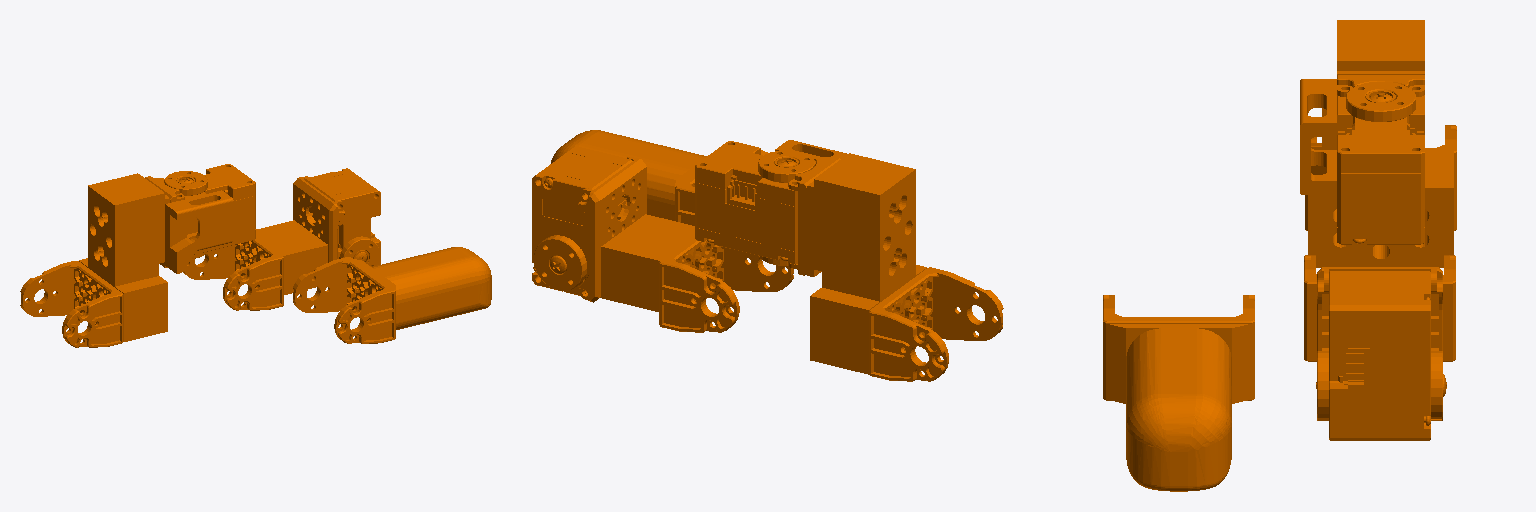
robot.urdf — onshape:
<robot name="onshape">
  <link name="palm_lower">
    <inertial>
      <origin xyz="0.0 0.0 0.0" rpy="0.0 -0.0 0.0"/>
      <mass value="0.237"/>
      <inertia ixx="0.000354094" ixy="-1.193e-06" ixz="-2.445e-06" iyy="0.000260915" iyz="-2.905e-06" izz="0.000529257"/>
    </inertial>
    <visual>
      <geometry>
        <mesh filename="../assets/leap/leap_hand/palm_lower.stl"/>
      </geometry>
      <origin xyz="-0.020095249652862544 0.025757756134899473 -0.034722403578460216" rpy="0.0 -0.0 0.0"/>
      <material name="palm_lower_material">
        <color rgba="0.6039215686274509 0.14901960784313725 0.14901960784313725 1.0"/>
      </material>
    </visual>
    <collision>
      <geometry>
        <mesh filename="../assets/leap/leap_hand/palm_lower.stl"/>
      </geometry>
      <origin xyz="-0.020095249652862544 0.025757756134899473 -0.034722403578460216" rpy="0.0 -0.0 0.0"/>
    </collision>
  </link>
  <link name="mcp_joint_long">
    <inertial>
      <origin xyz="0.0 0.0 0.0" rpy="0.0 -0.0 0.0"/>
      <mass value="0.044"/>
      <inertia ixx="1.1499e-05" ixy="3.049e-06" ixz="1.21e-07" iyy="7.796e-06" iyz="1.12e-07" izz="1.4759e-05"/>
    </inertial>
    <visual>
      <geometry>
        <mesh filename="custom_models/mcp_joint_long.stl"/>
      </geometry>
      <origin xyz="0.008406902261174496 0.0077662438597169954 0.014657354985032912" rpy="1.6375789613221e-15 -1.021047330249102e-30 1.7177968783327987e-31"/>
      <material name="mcp_joint_material">
        <color rgba="0.878 0.467 0.0 1.0"/>
      </material>
    </visual>
    <collision>
      <geometry>
        <mesh filename="custom_models/mcp_joint_long.stl"/>
      </geometry>
      <origin xyz="0.008406902261174496 0.0077662438597169954 0.014657354985032912" rpy="1.6375789613221e-15 -1.021047330249102e-30 1.7177968783327987e-31"/>
    </collision>
  </link>
  <link name="pip">
    <inertial>
      <origin xyz="0.0 0.0 0.0" rpy="0.0 -0.0 0.0"/>
      <mass value="0.032"/>
      <inertia ixx="4.798e-06" ixy="1.2e-08" ixz="4e-09" iyy="2.862e-06" iyz="1.1e-08" izz="4.234e-06"/>
    </inertial>
    <visual>
      <geometry>
        <mesh filename="../assets/leap/leap_hand/pip.stl"/>
      </geometry>
      <origin xyz="0.009643363092271328 0.0002999999999999895 0.0007840340104173765" rpy="-1.5707963267948966 -1.5707963267948963 0.0"/>
      <material name="pip_material">
        <color rgba="0.7490196078431373 0.7490196078431373 0.7490196078431373 1.0"/>
      </material>
    </visual>
    <collision>
      <geometry>
        <mesh filename="../assets/leap/leap_hand/pip.stl"/>
      </geometry>
      <origin xyz="0.009643363092271328 0.0002999999999999895 0.0007840340104173765" rpy="-1.5707963267948966 -1.5707963267948963 0.0"/>
    </collision>
  </link>
  <link name="dip_long">
    <inertial>
      <origin xyz="0.0 0.0 0.0" rpy="0.0 -0.0 0.0"/>
      <mass value="0.037"/>
      <inertia ixx="5.542e-06" ixy="-6.07e-07" ixz="-1.7e-08" iyy="5.727e-06" iyz="-2.3e-08" izz="6.682e-06"/>
    </inertial>
    <visual>
      <geometry>
        <mesh filename="custom_models/dip_long.stl"/>
      </geometry>
      <origin xyz="0.021133352895225003 -0.00843211914670488 0.00978508816209524" rpy="-3.141592653589793 4.507511124216441e-32 4.439548105392361e-32"/>
      <material name="dip_material">
        <color rgba="0.878 0.467 0.0 1.0"/>
      </material>
    </visual>
    <collision>
      <geometry>
        <mesh filename="custom_models/dip_long.stl"/>
      </geometry>
      <origin xyz="0.021133352895225003 -0.00843211914670488 0.00978508816209524" rpy="-3.141592653589793 4.507511124216441e-32 4.439548105392361e-32"/>
    </collision>
  </link>
  <link name="fingertip">
    <inertial>
      <origin xyz="0.0 0.0 0.0" rpy="0.0 -0.0 0.0"/>
      <mass value="0.016"/>
      <inertia ixx="3.368e-06" ixy="1.15e-07" ixz="0.0" iyy="1.556e-06" iyz="0.0" izz="2.863e-06"/>
    </inertial>
    <visual>
      <geometry>
        <mesh filename="../assets/leap/leap_hand/fingertip.stl"/>
      </geometry>
      <origin xyz="0.013286424108533503 -0.006114238386541987 0.014499999999999498" rpy="3.141592653589793 1.1993117970061735e-33 4.439548105392361e-32"/>
      <material name="fingertip_material">
        <color rgba="0.8666666666666667 0.8666666666666667 0.050980392156862744 1.0"/>
      </material>
    </visual>
    <collision>
      <geometry>
        <mesh filename="../assets/leap/leap_hand/fingertip.stl"/>
      </geometry>
      <origin xyz="0.013286424108533503 -0.006114238386541987 0.014499999999999498" rpy="3.141592653589793 1.1993117970061735e-33 4.439548105392361e-32"/>
    </collision>
  </link>
  <link name="pip_4">
    <inertial>
      <origin xyz="0.0 0.0 0.0" rpy="0.0 -0.0 0.0"/>
      <mass value="0.032"/>
      <inertia ixx="4.798e-06" ixy="1.2e-08" ixz="4e-09" iyy="2.862e-06" iyz="1.1e-08" izz="4.234e-06"/>
    </inertial>
    <visual>
      <geometry>
        <mesh filename="../assets/leap/leap_hand/pip.stl"/>
      </geometry>
      <origin xyz="-0.005356636907728671 0.0002999999999999999 0.0007840340104173782" rpy="-1.5707963267948966 -1.5707963267948963 0.0"/>
      <material name="pip_material">
        <color rgba="0.7490196078431373 0.7490196078431373 0.7490196078431373 1.0"/>
      </material>
    </visual>
    <collision>
      <geometry>
        <mesh filename="../assets/leap/leap_hand/pip.stl"/>
      </geometry>
      <origin xyz="-0.005356636907728671 0.0002999999999999999 0.0007840340104173782" rpy="-1.5707963267948966 -1.5707963267948963 0.0"/>
    </collision>
  </link>
  <link name="thumb_pip">
    <inertial>
      <origin xyz="0.0 0.0 0.0" rpy="0.0 -0.0 0.0"/>
      <mass value="0.003"/>
      <inertia ixx="5.93e-07" ixy="0.0" ixz="0.0" iyy="5.49e-07" iyz="0.0" izz="2.24e-07"/>
    </inertial>
    <visual>
      <geometry>
        <mesh filename="../assets/leap/leap_hand/thumb_pip.stl"/>
      </geometry>
      <origin xyz="0.011961920770611187 -5.30825383648903e-16 -0.0158526489566642" rpy="1.5707963267948966 1.6050198443300153e-46 -3.9204996250525193e-59"/>
      <material name="thumb_pip_material">
        <color rgba="0.8666666666666667 0.8666666666666667 0.050980392156862744 1.0"/>
      </material>
    </visual>
    <collision>
      <geometry>
        <mesh filename="../assets/leap/leap_hand/thumb_pip.stl"/>
      </geometry>
      <origin xyz="0.011961920770611187 -5.30825383648903e-16 -0.0158526489566642" rpy="1.5707963267948966 1.6050198443300153e-46 -3.9204996250525193e-59"/>
    </collision>
  </link>
  <link name="thumb_dip">
    <inertial>
      <origin xyz="0.0 0.0 0.0" rpy="0.0 -0.0 0.0"/>
      <mass value="0.038"/>
      <inertia ixx="8.474e-06" ixy="2.41e-07" ixz="2.6e-08" iyy="3.841e-06" iyz="2.5e-08" izz="7.679e-06"/>
    </inertial>
    <visual>
      <geometry>
        <mesh filename="../assets/leap/leap_hand/thumb_dip.stl"/>
      </geometry>
      <origin xyz="0.043968715707239175 0.0579529529737092 -0.008628676449369476" rpy="1.94289029309401e-16 3.27515792264422e-15 1.112375852965736e-46"/>
      <material name="thumb_dip_material">
        <color rgba="0.8666666666666667 0.8666666666666667 0.050980392156862744 1.0"/>
      </material>
    </visual>
    <collision>
      <geometry>
        <mesh filename="../assets/leap/leap_hand/thumb_dip.stl"/>
      </geometry>
      <origin xyz="0.043968715707239175 0.0579529529737092 -0.008628676449369476" rpy="1.94289029309401e-16 3.27515792264422e-15 1.112375852965736e-46"/>
    </collision>
  </link>
  <link name="thumb_fingertip">
    <inertial>
      <origin xyz="0.0 0.0 0.0" rpy="0.0 -0.0 0.0"/>
      <mass value="0.049"/>
      <inertia ixx="2.0372e-05" ixy="-4.89e-07" ixz="-3e-08" iyy="4.336e-06" iyz="-9.7e-08" izz="1.9845e-05"/>
    </inertial>
    <visual>
      <geometry>
        <mesh filename="../assets/leap/leap_hand/thumb_fingertip.stl"/>
      </geometry>
      <origin xyz="0.06255953846266739 0.07845968291139699 0.048992911807332215" rpy="4.379057701015637e-47 -3.33066907387547e-16 1.2042408677791935e-46"/>
      <material name="thumb_fingertip_material">
        <color rgba="0.6039215686274509 0.14901960784313725 0.14901960784313725 1.0"/>
      </material>
    </visual>
    <collision>
      <geometry>
        <mesh filename="../assets/leap/leap_hand/thumb_fingertip.stl"/>
      </geometry>
      <origin xyz="0.06255953846266739 0.07845968291139699 0.048992911807332215" rpy="4.379057701015637e-47 -3.33066907387547e-16 1.2042408677791935e-46"/>
    </collision>
  </link>
  <link name="mcp_joint_2">
    <inertial>
      <origin xyz="0.0 0.0 0.0" rpy="0.0 -0.0 0.0"/>
      <mass value="0.044"/>
      <inertia ixx="1.1499e-05" ixy="3.049e-06" ixz="1.21e-07" iyy="7.796e-06" iyz="1.12e-07" izz="1.4759e-05"/>
    </inertial>
    <visual>
      <geometry>
        <mesh filename="../assets/leap/leap_hand/mcp_joint.stl"/>
      </geometry>
      <origin xyz="0.008406902261174496 0.0077662438597169954 0.014657354985032914" rpy="1.6375789613221e-15 -1.0076465469034e-30 2.1209300131419907e-61"/>
      <material name="mcp_joint_material">
        <color rgba="0.8666666666666667 0.8666666666666667 0.050980392156862744 1.0"/>
      </material>
    </visual>
    <collision>
      <geometry>
        <mesh filename="../assets/leap/leap_hand/mcp_joint.stl"/>
      </geometry>
      <origin xyz="0.008406902261174496 0.0077662438597169954 0.014657354985032914" rpy="1.6375789613221e-15 -1.0076465469034e-30 2.1209300131419907e-61"/>
    </collision>
  </link>
  <link name="pip_2">
    <inertial>
      <origin xyz="0.0 0.0 0.0" rpy="0.0 -0.0 0.0"/>
      <mass value="0.032"/>
      <inertia ixx="4.798e-06" ixy="1.2e-08" ixz="4e-09" iyy="2.862e-06" iyz="1.1e-08" izz="4.234e-06"/>
    </inertial>
    <visual>
      <geometry>
        <mesh filename="../assets/leap/leap_hand/pip.stl"/>
      </geometry>
      <origin xyz="0.009643363092271328 0.0002999999999999947 0.0007840340104173765" rpy="-1.5707963267948966 -1.5707963267948963 0.0"/>
      <material name="pip_material">
        <color rgba="0.7490196078431373 0.7490196078431373 0.7490196078431373 1.0"/>
      </material>
    </visual>
    <collision>
      <geometry>
        <mesh filename="../assets/leap/leap_hand/pip.stl"/>
      </geometry>
      <origin xyz="0.009643363092271328 0.0002999999999999947 0.0007840340104173765" rpy="-1.5707963267948966 -1.5707963267948963 0.0"/>
    </collision>
  </link>
  <link name="dip_2">
    <inertial>
      <origin xyz="0.0 0.0 0.0" rpy="0.0 -0.0 0.0"/>
      <mass value="0.037"/>
      <inertia ixx="5.542e-06" ixy="-6.07e-07" ixz="-1.7e-08" iyy="5.727e-06" iyz="-2.3e-08" izz="6.682e-06"/>
    </inertial>
    <visual>
      <geometry>
        <mesh filename="../assets/leap/leap_hand/dip.stl"/>
      </geometry>
      <origin xyz="0.021133352895225003 -0.008432119146704865 0.009785088162095237" rpy="-3.141592653589793 2.1146933785271956e-32 1.4408183216511869e-31"/>
      <material name="dip_material">
        <color rgba="0.8666666666666667 0.8666666666666667 0.050980392156862744 1.0"/>
      </material>
    </visual>
    <collision>
      <geometry>
        <mesh filename="../assets/leap/leap_hand/dip.stl"/>
      </geometry>
      <origin xyz="0.021133352895225003 -0.008432119146704865 0.009785088162095237" rpy="-3.141592653589793 2.1146933785271956e-32 1.4408183216511869e-31"/>
    </collision>
  </link>
  <link name="fingertip_2_long">
    <inertial>
      <origin xyz="0.0 0.0 0.0" rpy="0.0 -0.0 0.0"/>
      <mass value="0.016"/>
      <inertia ixx="3.368e-06" ixy="1.15e-07" ixz="0.0" iyy="1.556e-06" iyz="0.0" izz="2.863e-06"/>
    </inertial>
    <visual>
      <geometry>
        <mesh filename="custom_models/fingertip_long.stl"/>
      </geometry>
      <origin xyz="0.013286424108533496 -0.006114238386542001 0.014499999999999496" rpy="3.141592653589793 -4.317959788283594e-33 1.4408183216511869e-31"/>
      <material name="fingertip_material">
        <color rgba="0.878 0.467 0.0 1.0"/>
      </material>
    </visual>
    <collision>
      <geometry>
        <mesh filename="custom_models/fingertip_long.stl"/>
      </geometry>
      <origin xyz="0.013286424108533496 -0.006114238386542001 0.014499999999999496" rpy="3.141592653589793 -4.317959788283594e-33 1.4408183216511869e-31"/>
    </collision>
  </link>
  <link name="mcp_joint_3">
    <inertial>
      <origin xyz="0.0 0.0 0.0" rpy="0.0 -0.0 0.0"/>
      <mass value="0.044"/>
      <inertia ixx="1.1499e-05" ixy="3.049e-06" ixz="1.21e-07" iyy="7.796e-06" iyz="1.12e-07" izz="1.4759e-05"/>
    </inertial>
    <visual>
      <geometry>
        <mesh filename="../assets/leap/leap_hand/mcp_joint.stl"/>
      </geometry>
      <origin xyz="0.0084069022611745 0.007766243859716996 0.014657354985032914" rpy="1.6375789613221e-15 -1.0059504988632627e-30 5.729641584552035e-32"/>
      <material name="mcp_joint_material">
        <color rgba="0.8666666666666667 0.8666666666666667 0.050980392156862744 1.0"/>
      </material>
    </visual>
    <collision>
      <geometry>
        <mesh filename="../assets/leap/leap_hand/mcp_joint.stl"/>
      </geometry>
      <origin xyz="0.0084069022611745 0.007766243859716996 0.014657354985032914" rpy="1.6375789613221e-15 -1.0059504988632627e-30 5.729641584552035e-32"/>
    </collision>
  </link>
  <link name="pip_3">
    <inertial>
      <origin xyz="0.0 0.0 0.0" rpy="0.0 -0.0 0.0"/>
      <mass value="0.032"/>
      <inertia ixx="4.798e-06" ixy="1.2e-08" ixz="4e-09" iyy="2.862e-06" iyz="1.1e-08" izz="4.234e-06"/>
    </inertial>
    <visual>
      <geometry>
        <mesh filename="../assets/leap/leap_hand/pip.stl"/>
      </geometry>
      <origin xyz="0.009643363092271331 0.00029999999999998084 0.0007840340104173765" rpy="-1.5707963267948966 -1.5707963267948963 0.0"/>
      <material name="pip_material">
        <color rgba="0.7490196078431373 0.7490196078431373 0.7490196078431373 1.0"/>
      </material>
    </visual>
    <collision>
      <geometry>
        <mesh filename="../assets/leap/leap_hand/pip.stl"/>
      </geometry>
      <origin xyz="0.009643363092271331 0.00029999999999998084 0.0007840340104173765" rpy="-1.5707963267948966 -1.5707963267948963 0.0"/>
    </collision>
  </link>
  <link name="dip_3">
    <inertial>
      <origin xyz="0.0 0.0 0.0" rpy="0.0 -0.0 0.0"/>
      <mass value="0.037"/>
      <inertia ixx="5.542e-06" ixy="-6.07e-07" ixz="-1.7e-08" iyy="5.727e-06" iyz="-2.3e-08" izz="6.682e-06"/>
    </inertial>
    <visual>
      <geometry>
        <mesh filename="../assets/leap/leap_hand/dip.stl"/>
      </geometry>
      <origin xyz="0.021133352895225006 -0.008432119146704865 0.009785088162095237" rpy="-3.141592653589793 -1.4095651113919093e-33 1.5565411607615035e-32"/>
      <material name="dip_material">
        <color rgba="0.8666666666666667 0.8666666666666667 0.050980392156862744 1.0"/>
      </material>
    </visual>
    <collision>
      <geometry>
        <mesh filename="../assets/leap/leap_hand/dip.stl"/>
      </geometry>
      <origin xyz="0.021133352895225006 -0.008432119146704865 0.009785088162095237" rpy="-3.141592653589793 -1.4095651113919093e-33 1.5565411607615035e-32"/>
    </collision>
  </link>
  <link name="fingertip_3">
    <inertial>
      <origin xyz="0.0 0.0 0.0" rpy="0.0 -0.0 0.0"/>
      <mass value="0.016"/>
      <inertia ixx="3.368e-06" ixy="1.15e-07" ixz="0.0" iyy="1.556e-06" iyz="0.0" izz="2.863e-06"/>
    </inertial>
    <visual>
      <geometry>
        <mesh filename="../assets/leap/leap_hand/fingertip.stl"/>
      </geometry>
      <origin xyz="0.013286424108533501 -0.006114238386541987 0.0144999999999995" rpy="3.141592653589793 8.61707169505754e-33 1.5565411607615035e-32"/>
      <material name="fingertip_material">
        <color rgba="0.8666666666666667 0.8666666666666667 0.050980392156862744 1.0"/>
      </material>
    </visual>
    <collision>
      <geometry>
        <mesh filename="../assets/leap/leap_hand/fingertip.stl"/>
      </geometry>
      <origin xyz="0.013286424108533501 -0.006114238386541987 0.0144999999999995" rpy="3.141592653589793 8.61707169505754e-33 1.5565411607615035e-32"/>
    </collision>
  </link>
  <joint name="1" type="revolute">
    <parent link="palm_lower"/>
    <child link="mcp_joint_long"/>
    <origin xyz="-0.007095249652862546 0.023057756134899472 -0.01872240357846022" rpy="1.570796326794895 1.5707963267948946 0.0"/>
    <axis xyz="0.0 0.0 -1.0"/>
    <limit effort="0.95" velocity="8.48" lower="-0.314" upper="2.23"/>
  </joint>
  <joint name="0" type="revolute">
    <parent link="mcp_joint_long"/>
    <child link="pip"/>
    <origin xyz="-0.012200000000000007713 0.053099999999999994982 0.014500000000000000736" rpy="-1.5707963267948966 -1.0065212660796337e-15 1.5707963267948943"/>
    <axis xyz="0.0 0.0 -1.0"/>
    <limit effort="0.95" velocity="8.48" lower="-1.047" upper="1.047"/>
  </joint>
  <joint name="2" type="revolute">
    <parent link="pip"/>
    <child link="dip_long"/>
    <origin xyz="0.014999999999999968 0.014299999999999905 -0.012999999999999824" rpy="1.570796326794896 -1.5707963267948963 0.0"/>
    <axis xyz="0.0 0.0 -1.0"/>
    <limit effort="0.95" velocity="8.48" lower="-0.506" upper="1.885"/>
  </joint>
  <joint name="3" type="revolute">
    <parent link="dip_long"/>
    <child link="fingertip"/>
    <origin xyz="-4.0880582495572692636e-09 -0.051100004210367367397 0.00020000000000007858714" rpy="4.5935029425113685e-17 -2.8730071914463795e-16 4.439548105392361e-32"/>
    <axis xyz="0.0 0.0 -1.0"/>
    <limit effort="0.95" velocity="8.48" lower="-0.366" upper="2.042"/>
  </joint>
  <joint name="12" type="revolute">
    <parent link="palm_lower"/>
    <child link="pip_4"/>
    <origin xyz="-0.06939524965286253 -0.0012422438651005258 -0.021622403578460216" rpy="-8.238176646493942e-17 1.5707963267948957 0.0"/>
    <axis xyz="0.0 0.0 -1.0"/>
    <limit effort="0.95" velocity="8.48" lower="-0.349" upper="2.094"/>
  </joint>
  <joint name="13" type="revolute">
    <parent link="pip_4"/>
    <child link="thumb_pip"/>
    <origin xyz="-2.7755575615628914e-17 0.014300000000000005 -0.013000000000000012" rpy="1.570796326794896 -1.5707963267948963 0.0"/>
    <axis xyz="0.0 0.0 -1.0"/>
    <limit effort="0.95" velocity="8.48" lower="-0.47" upper="2.443"/>
  </joint>
  <joint name="14" type="revolute">
    <parent link="thumb_pip"/>
    <child link="thumb_dip"/>
    <origin xyz="0.0 0.014499999999999966 -0.017000000000000053" rpy="-1.5707963267948966 1.6050198443300131e-46 -1.9721522630516625e-31"/>
    <axis xyz="0.0 0.0 -1.0"/>
    <limit effort="0.95" velocity="8.48" lower="-1.2" upper="1.9"/>
  </joint>
  <joint name="15" type="revolute">
    <parent link="thumb_dip"/>
    <child link="thumb_fingertip"/>
    <origin xyz="-1.249000902703301e-16 0.046599999999999864 0.0001999999999999771" rpy="1.506395849149178e-44 5.423418723393526e-31 3.141592653589793"/>
    <axis xyz="0.0 0.0 -1.0"/>
    <limit effort="0.95" velocity="8.48" lower="-1.34" upper="1.88"/>
  </joint>
  <joint name="5" type="revolute">
    <parent link="palm_lower"/>
    <child link="mcp_joint_2"/>
    <origin xyz="-0.007095249652862546 -0.022392243865100525 -0.01872240357846022" rpy="1.570796326794895 1.5707963267948946 0.0"/>
    <axis xyz="0.0 0.0 -1.0"/>
    <limit effort="0.95" velocity="8.48" lower="-0.314" upper="2.23"/>
  </joint>
  <joint name="4" type="revolute">
    <parent link="mcp_joint_2"/>
    <child link="pip_2"/>
    <origin xyz="-0.012200000000000008 0.038099999999999995 0.0145" rpy="-1.5707963267948966 -1.0065212660796337e-15 1.5707963267948943"/>
    <axis xyz="0.0 0.0 -1.0"/>
    <limit effort="0.95" velocity="8.48" lower="-1.047" upper="1.047"/>
  </joint>
  <joint name="6" type="revolute">
    <parent link="pip_2"/>
    <child link="dip_2"/>
    <origin xyz="0.014999999999999968 0.014299999999999905 -0.012999999999999824" rpy="1.570796326794896 -1.5707963267948963 0.0"/>
    <axis xyz="0.0 0.0 -1.0"/>
    <limit effort="0.95" velocity="8.48" lower="-0.506" upper="1.885"/>
  </joint>
  <joint name="7" type="revolute">
    <parent link="dip_2"/>
    <child link="fingertip_2_long"/>
    <origin xyz="-4.088058249557269e-09 -0.03610000421036737 0.0002000000000000786" rpy="4.5935029425113685e-17 -2.8730071914463795e-16 4.439548105392361e-32"/>
    <axis xyz="0.0 0.0 -1.0"/>
    <limit effort="0.95" velocity="8.48" lower="-0.366" upper="2.042"/>
  </joint>
  <joint name="9" type="revolute">
    <parent link="palm_lower"/>
    <child link="mcp_joint_3"/>
    <origin xyz="-0.007095249652862546 -0.06784224386510052 -0.01872240357846022" rpy="1.570796326794895 1.5707963267948946 0.0"/>
    <axis xyz="0.0 0.0 -1.0"/>
    <limit effort="0.95" velocity="8.48" lower="-0.314" upper="2.23"/>
  </joint>
  <joint name="8" type="revolute">
    <parent link="mcp_joint_3"/>
    <child link="pip_3"/>
    <origin xyz="-0.012200000000000008 0.038099999999999995 0.0145" rpy="-1.5707963267948966 -1.0065212660796337e-15 1.5707963267948943"/>
    <axis xyz="0.0 0.0 -1.0"/>
    <limit effort="0.95" velocity="8.48" lower="-1.047" upper="1.047"/>
  </joint>
  <joint name="10" type="revolute">
    <parent link="pip_3"/>
    <child link="dip_3"/>
    <origin xyz="0.014999999999999968 0.014299999999999905 -0.012999999999999824" rpy="1.570796326794896 -1.5707963267948963 0.0"/>
    <axis xyz="0.0 0.0 -1.0"/>
    <limit effort="0.95" velocity="8.48" lower="-0.506" upper="1.885"/>
  </joint>
  <joint name="11" type="revolute">
    <parent link="dip_3"/>
    <child link="fingertip_3"/>
    <origin xyz="-4.088058249557269e-09 -0.03610000421036737 0.0002000000000000786" rpy="4.5935029425113685e-17 -2.8730071914463795e-16 4.439548105392361e-32"/>
    <axis xyz="0.0 0.0 -1.0"/>
    <limit effort="0.95" velocity="8.48" lower="-0.366" upper="2.042"/>
  </joint>
</robot>

--- Facts derived from the render (not from the file) ---
3 views of the same robot in one strip: view 1: azimuth 30°, elevation 25°; view 2: azimuth 150°, elevation 25°; view 3: azimuth 270°, elevation 25° (orthographic).
Model onshape with 17 links and 16 joints (16 revolute), rooted at palm_lower, posed all joints at 0.
Links seen in each view (by area): view 1: mcp_joint_long, dip_long, fingertip_2_long; view 2: mcp_joint_long, dip_long, fingertip_2_long; view 3: mcp_joint_long, dip_long, fingertip_2_long.
Link boxes in pixels (x1=…): mcp_joint_long: x1=20, y1=164, x2=255, y2=347; dip_long: x1=183, y1=168, x2=380, y2=310; fingertip_2_long: x1=293, y1=247, x2=491, y2=343; mcp_joint_long: x1=695, y1=140, x2=1003, y2=381; dip_long: x1=532, y1=146, x2=793, y2=332; fingertip_2_long: x1=551, y1=130, x2=767, y2=225; mcp_joint_long: x1=1300, y1=20, x2=1456, y2=267; dip_long: x1=1304, y1=255, x2=1455, y2=440; fingertip_2_long: x1=1103, y1=295, x2=1254, y2=491.
Size in the robot's own frame: 0.1616 by 0.0804 by 0.0549 metres.
Meshes: 11 distinct files referenced, 3 mesh visuals loaded (3 binary STL); not drawn: 14 (reference not matched to a file when rendering).